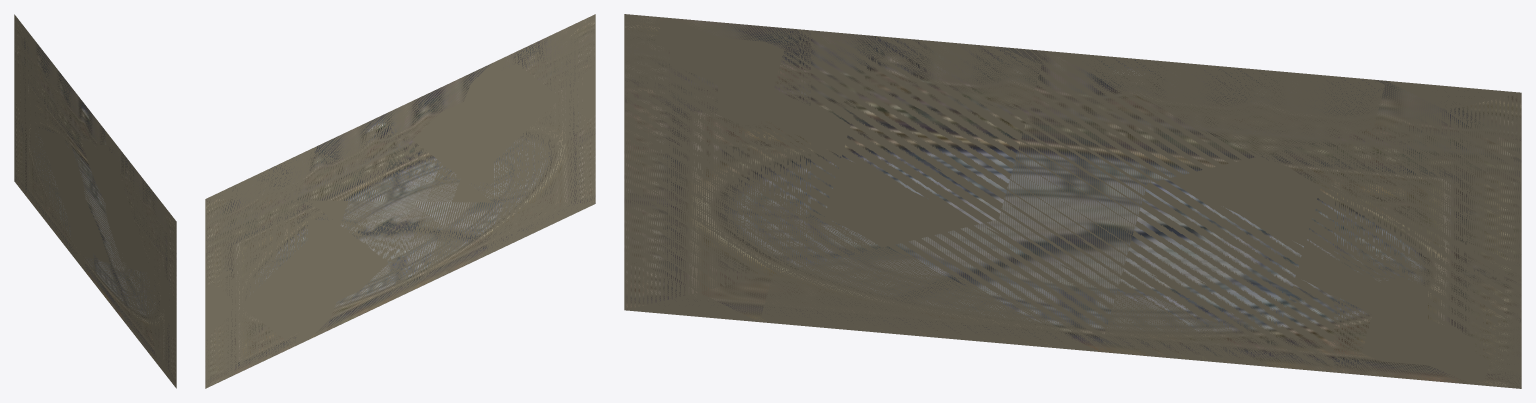
Rendered from 大本钟69.dae.
3 views of the same model, side by side, from view 1: azimuth 30°, elevation 25°; view 2: azimuth 150°, elevation 25°; view 3: azimuth 270°, elevation 25° (orthographic). The views are drawn at different scales.
Parts seen in each view (by area): view 1: SketchUp; view 2: SketchUp; view 3: SketchUp.
Part boxes in pixels (box(x1,y1,x2,y2)): SketchUp: box(14, 14, 176, 388); SketchUp: box(205, 14, 595, 388); SketchUp: box(624, 14, 1521, 388).
Size of the model in its own units: 8.11 by 39.11 by 14.25.
